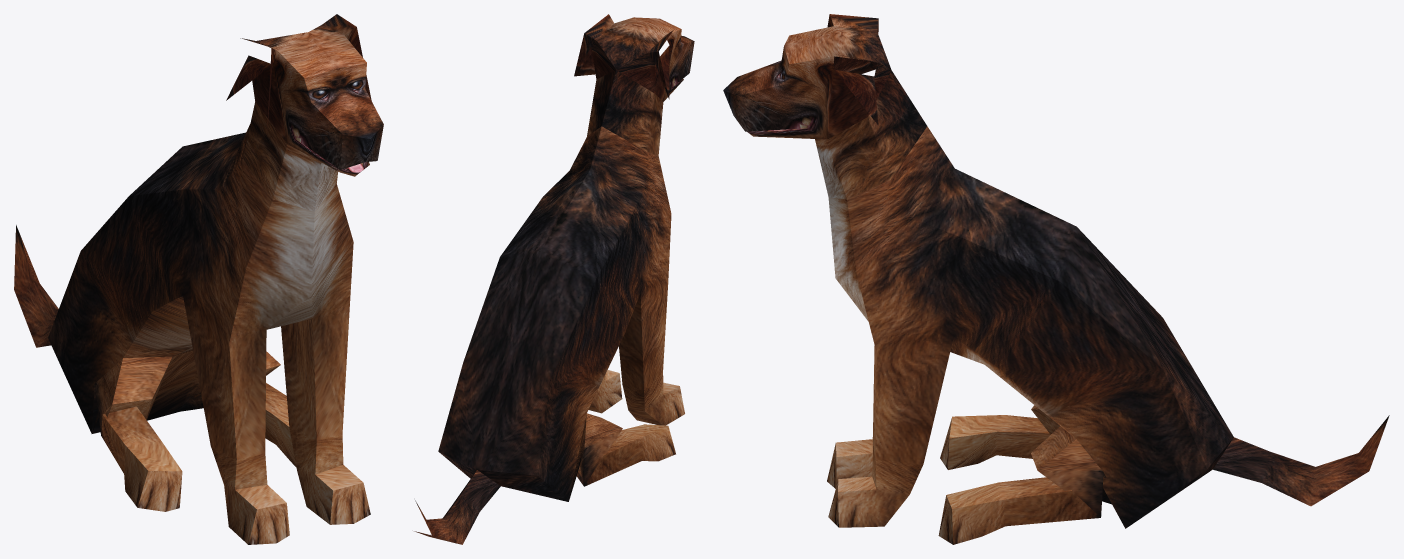
Rendered from mm9_deco_dogsitting.glb.
3 views of the same model, side by side, from view 1: azimuth 30°, elevation 25°; view 2: azimuth 150°, elevation 25°; view 3: azimuth 270°, elevation 25° (orthographic). The views are drawn at different scales.
Visible parts, largest first — view 1: Dogsitting; view 2: Dogsitting; view 3: Dogsitting.
Boxes of the visible parts, box(x1,y1,x2,y2) form: Dogsitting: box(14, 14, 383, 544); Dogsitting: box(414, 14, 694, 544); Dogsitting: box(723, 14, 1389, 544).
Bounding box in the file's own units: 0.5049 × 1.18 × 1.52.
1 material, 1 textured.
